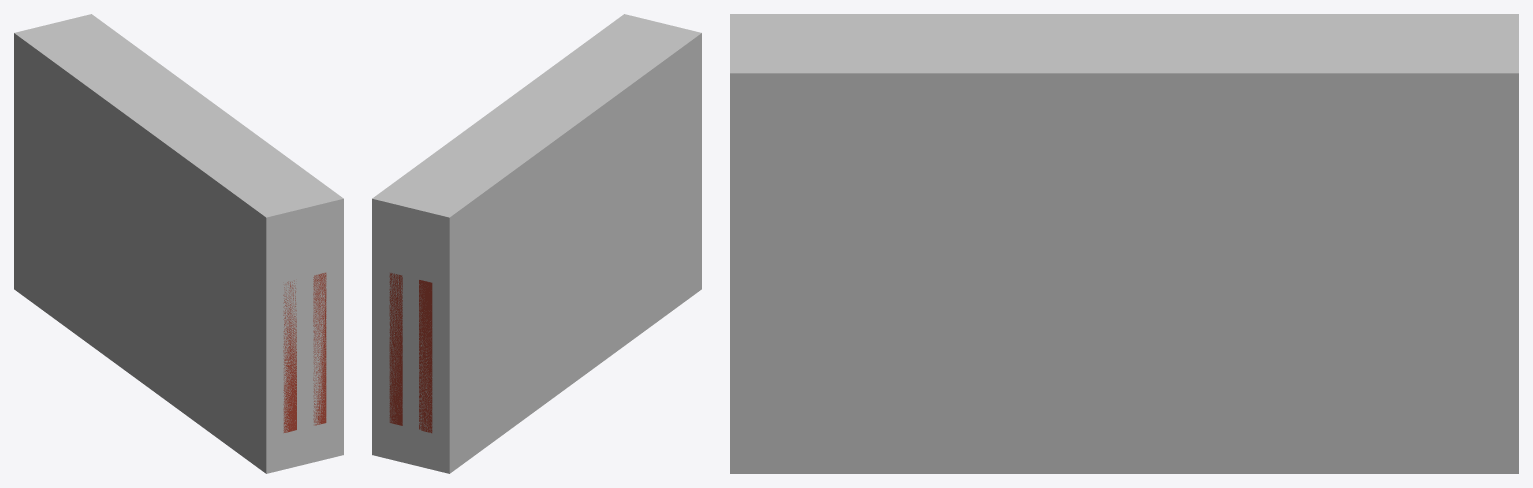
File: SM_Billboard_13.fbx
The picture shows the model from 3 angles, left to right: view 1: azimuth 30°, elevation 25°; view 2: azimuth 150°, elevation 25°; view 3: azimuth 270°, elevation 25°; orthographic projection. The views are drawn at different scales.
Visible parts, largest first — view 1: SM_Billboard_13_ConvexHulls, SM_Billboard_13; view 2: SM_Billboard_13_ConvexHulls, SM_Billboard_13; view 3: SM_Billboard_13_ConvexHulls.
Boxes of the visible parts, x1=… form: SM_Billboard_13_ConvexHulls: x1=14, y1=14, x2=343, y2=473; SM_Billboard_13: x1=283, y1=272, x2=326, y2=432; SM_Billboard_13_ConvexHulls: x1=372, y1=14, x2=701, y2=473; SM_Billboard_13: x1=389, y1=273, x2=432, y2=433; SM_Billboard_13_ConvexHulls: x1=730, y1=14, x2=1518, y2=473.
Bounding box in the file's own units: 76.39 × 430 × 241.
2 materials, 1 textured.
